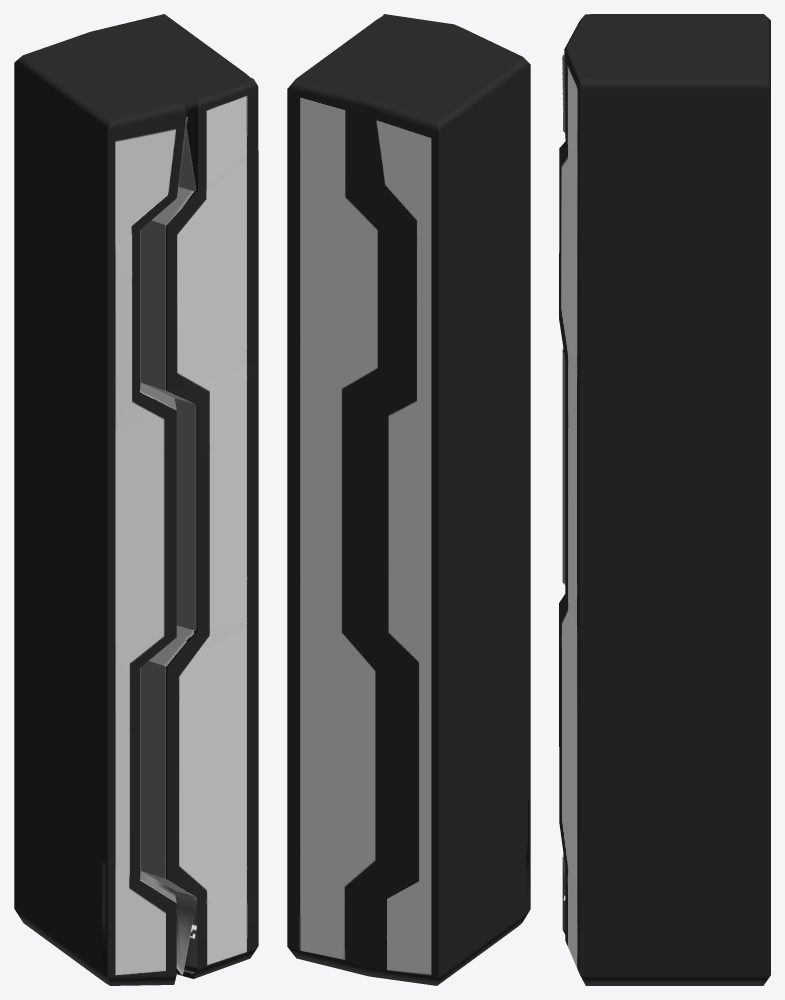
Rendered from portal_frame.fbx.
The picture shows the model from 3 angles, left to right: view 1: azimuth 30°, elevation 25°; view 2: azimuth 150°, elevation 25°; view 3: azimuth 270°, elevation 25°; orthographic projection. The views are drawn at different scales.
Parts seen in each view (by area): view 1: polySurface1, polySurface2; view 2: polySurface1; view 3: polySurface1, polySurface2.
Part boxes in pixels (box(x1,y1,x2,y2)): polySurface1: box(14, 14, 258, 985); polySurface2: box(140, 116, 196, 974); polySurface1: box(287, 14, 530, 985); polySurface1: box(559, 14, 770, 985); polySurface2: box(562, 55, 565, 882).
Size of the model in its own units: 73.23 by 407 by 85.97.
